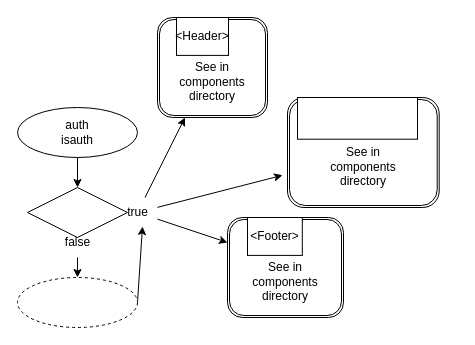
Image size: 475x345. Some labels were removed from this diagram. The shapes that lost their labels are listed below. From the top down, each one's centre as x and y in pixels, then its label:
At [357,117]: "<ListDescription>".
At [77,212]: "isAuthorized".
At [77,302]: "/login <Login>".
